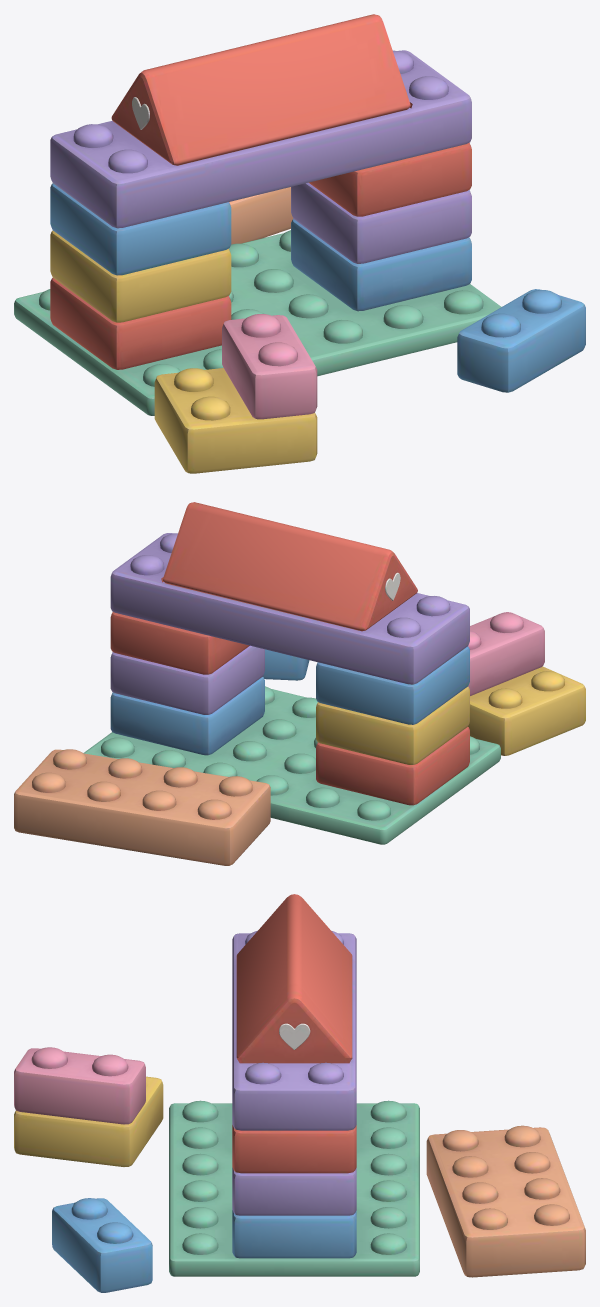
File: bloques_construccion.glb
3 views of the same model, one above another, from view 1: azimuth 30°, elevation 25°; view 2: azimuth 150°, elevation 25°; view 3: azimuth 270°, elevation 25° (orthographic). The views are drawn at different scales.
Visible parts, largest first — view 1: building-bricks_body; view 2: building-bricks_body; view 3: building-bricks_body.
Boxes of the visible parts, box(x1,y1,x2,y2) form: building-bricks_body: box(14, 14, 585, 473); building-bricks_body: box(14, 502, 585, 865); building-bricks_body: box(14, 894, 585, 1292).
Size of the model in its own units: 0.2278 by 0.1429 by 0.2917.
1 material, 1 textured.
